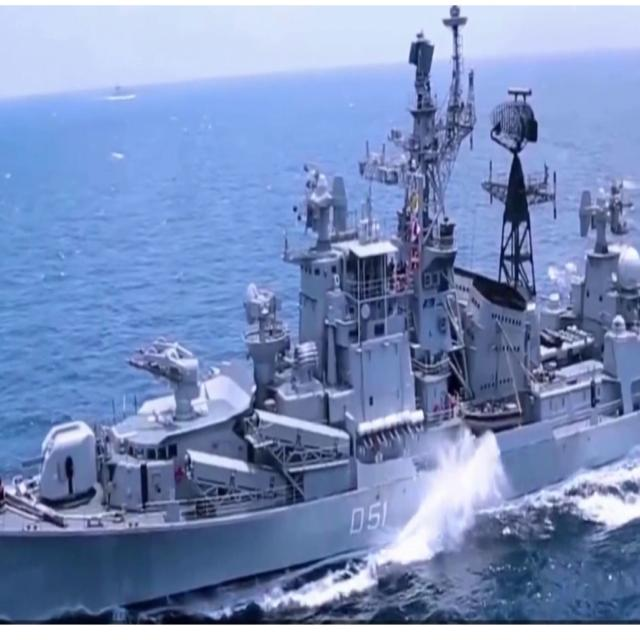OCR: (343, 490, 389, 541)
